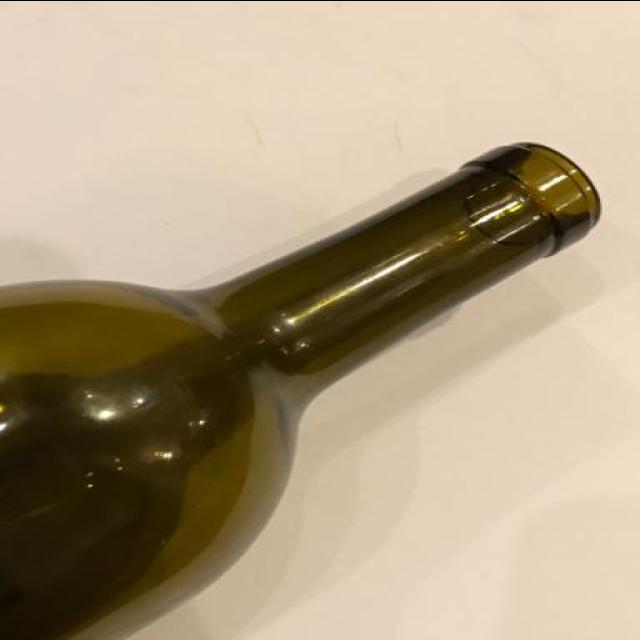glass: (0, 138, 606, 640)
